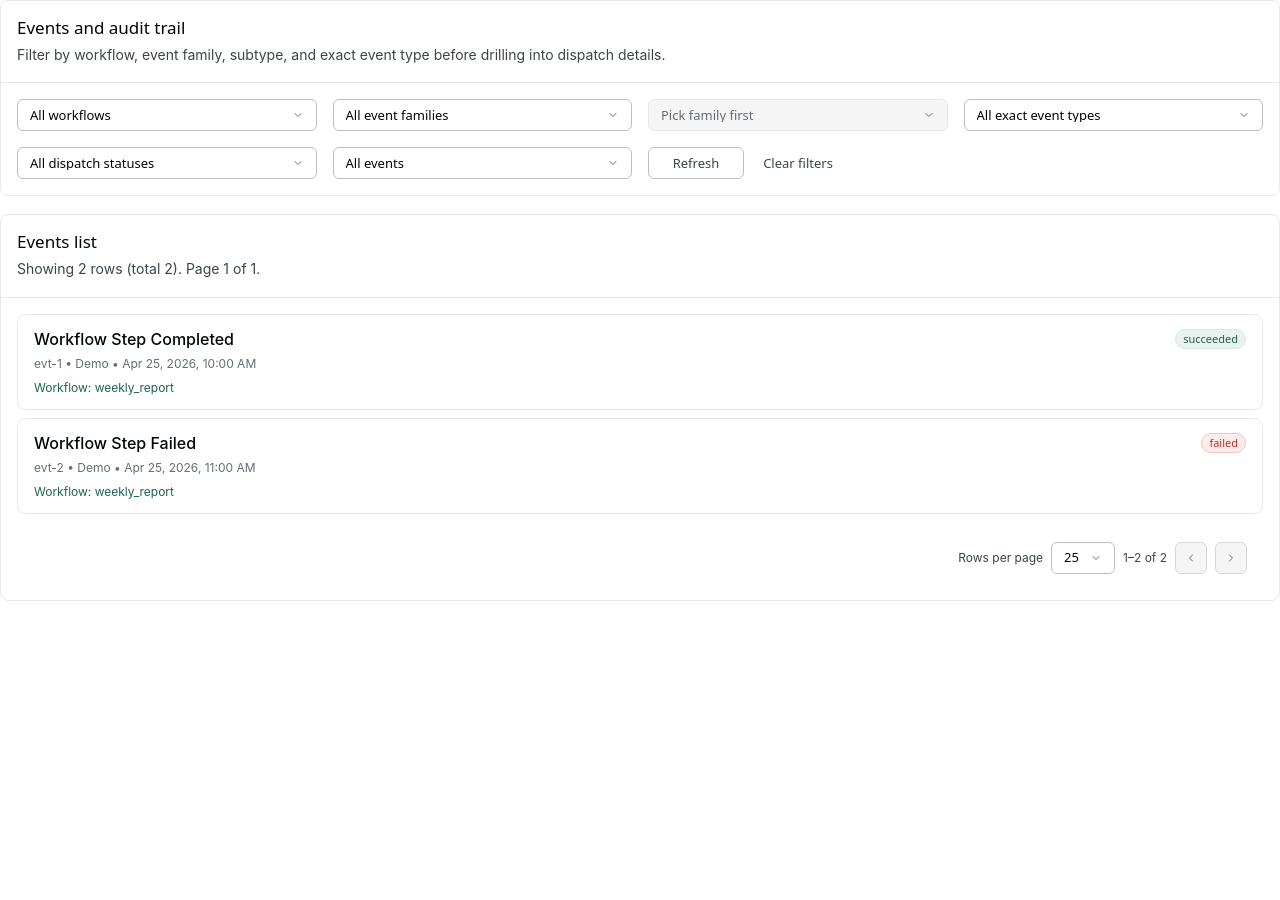
Test: EventsAuditTrail › localizes both diagnostic record counts while preserving backend command data
This screenshot has width=1280, height=900.
Click the button "Workflow Step Completed" at (134, 339), box [34,327,1246,373]
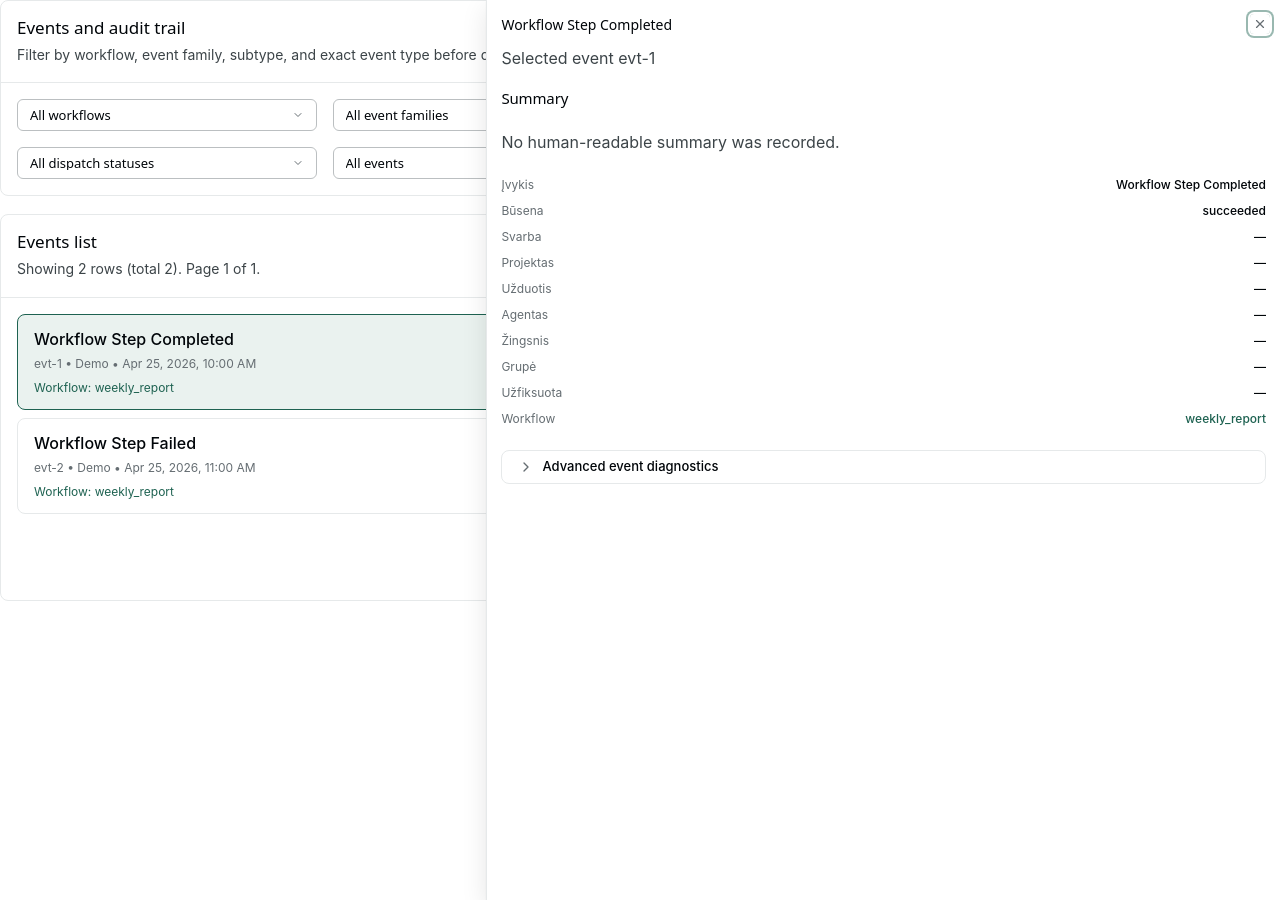
Click the heading "Advanced event diagnostics" at (618, 467), box [518,458,718,475]
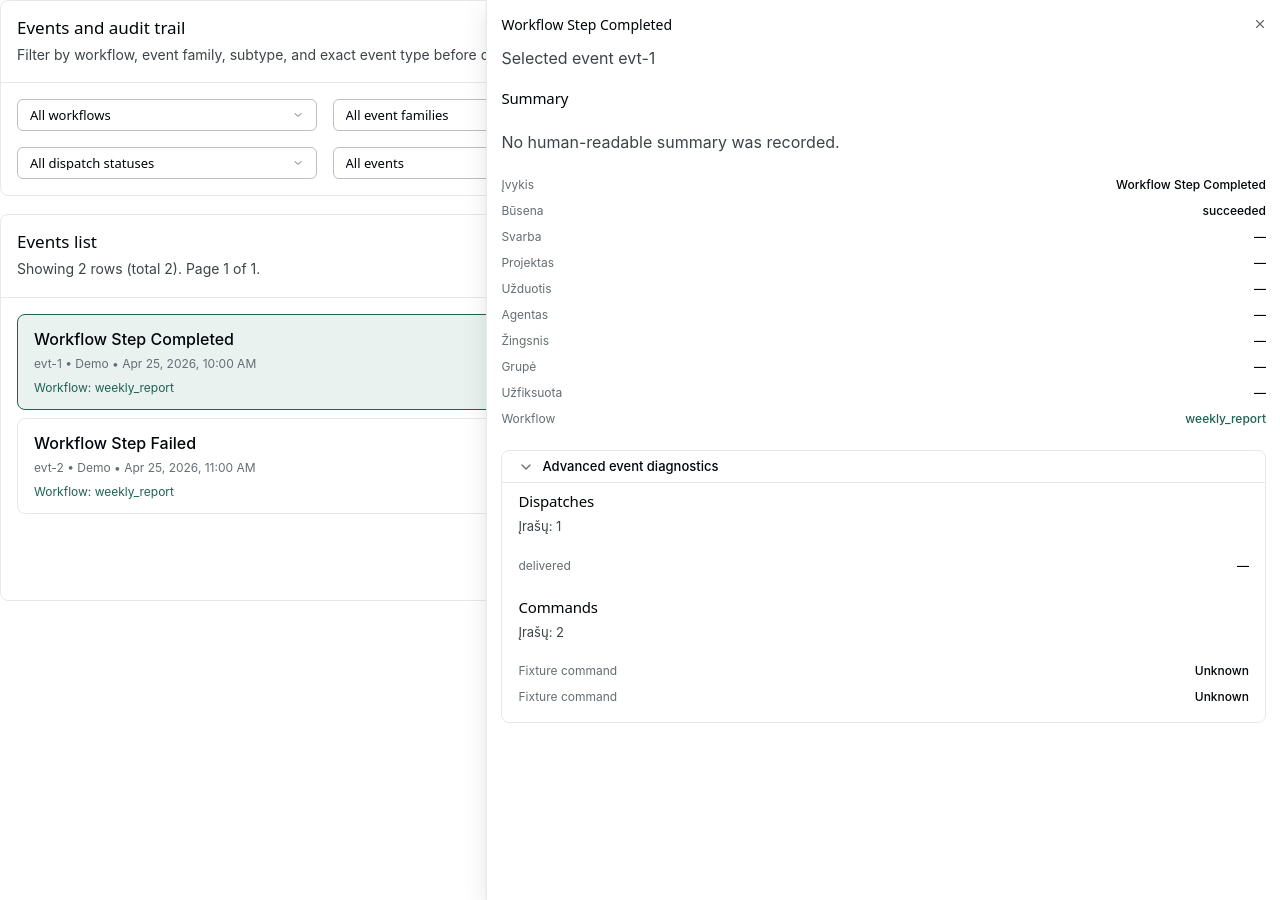
Result: the text "Įrašų: 1" is shown at [518,518,561,534]
Result: the text "Įrašų: 2" is shown at [518,624,564,640]
